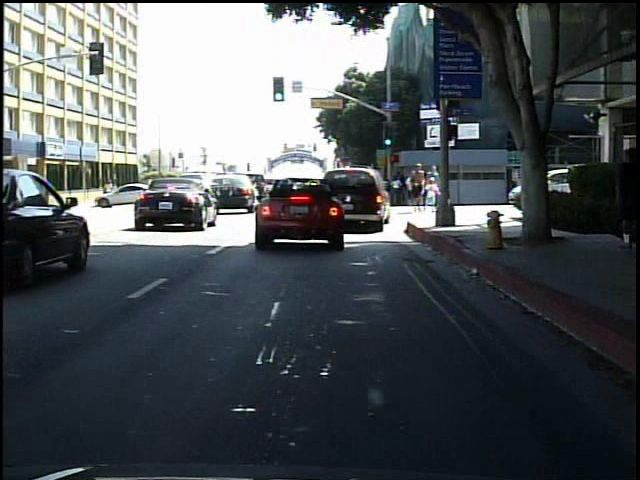person: (614, 138, 634, 251), (408, 160, 428, 214), (101, 177, 119, 205), (423, 177, 438, 209)
